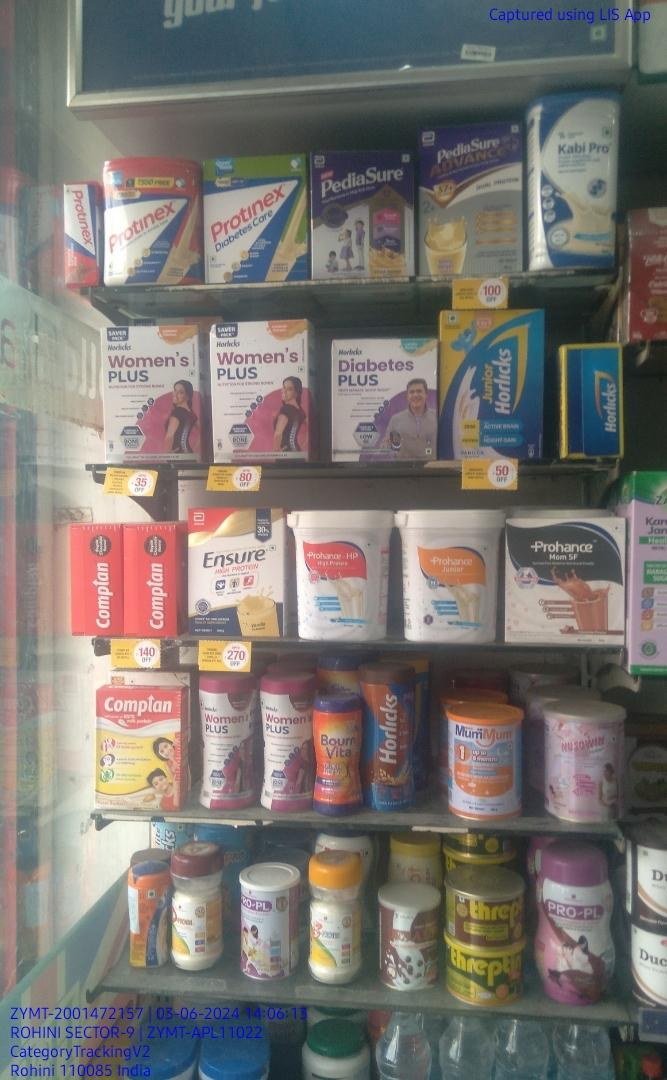BOURN_VITA_200_G_JAR: (315, 701, 360, 818)
COMPLAN_KESAR_BADAM_200_GMS_PACK: (95, 693, 180, 813)
ENSURE_VANILLA_400_G_PACK: (189, 509, 281, 639)
HORLICK_CHOCOLATE_500_G_JAR: (361, 673, 414, 810)
PEDIASURE_VANILLA_500_G_PACK: (311, 151, 417, 279)
PROTINEX_VANILLA_400_G_JAR: (102, 158, 199, 286)
